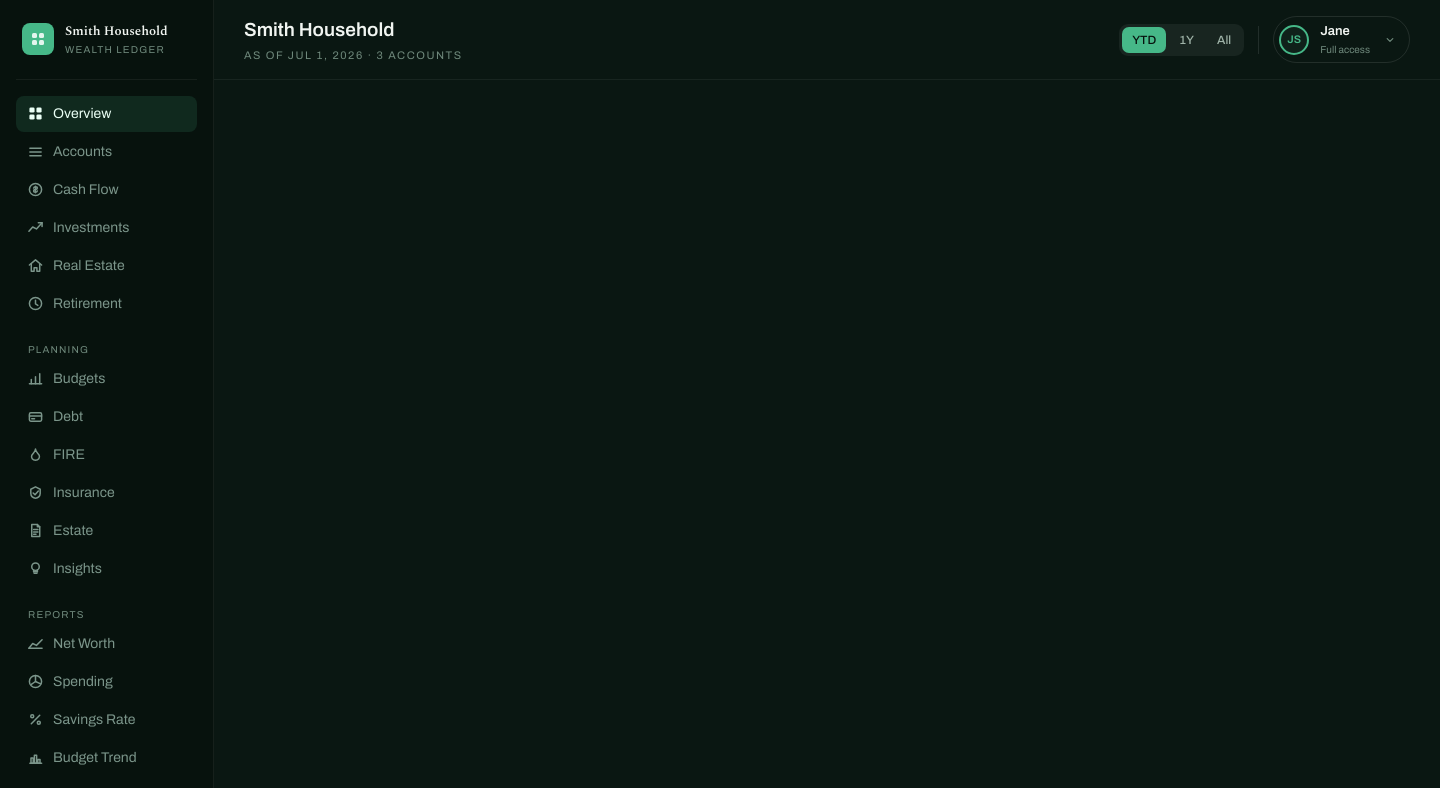
Test: AppLayout › identity widget › opens dropdown when identity button is clicked
The image size is (1440, 788).
Click the button with aria-label "User menu".
click(1342, 40)  # box [1273,16,1410,63]
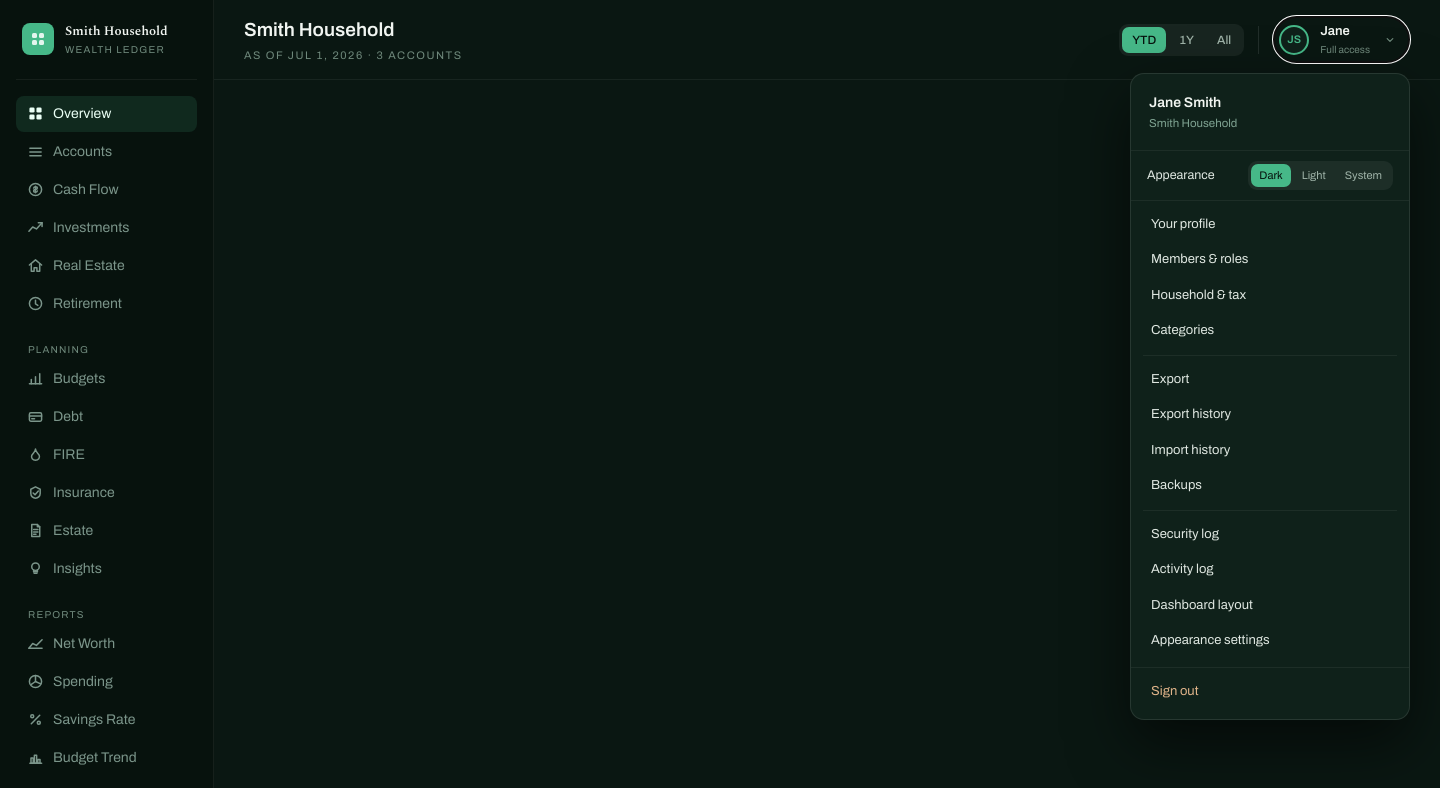
Now the menu is shown, box [1130,73,1410,720]
